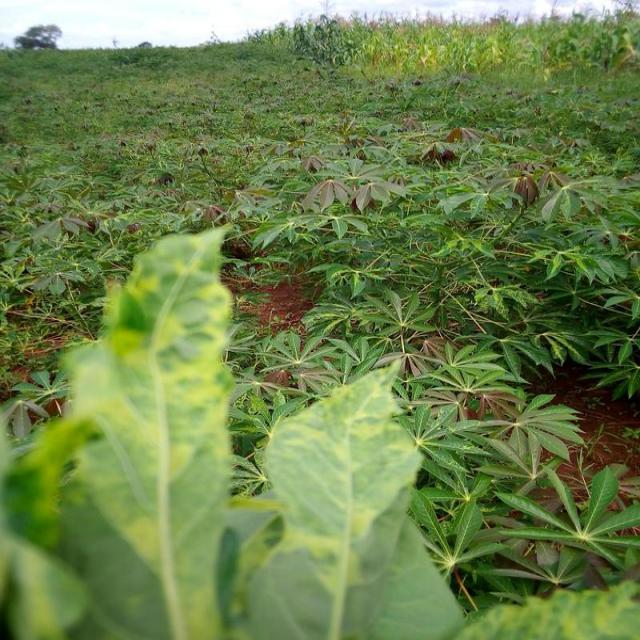cassava leaf: (61, 223, 238, 637), (229, 356, 466, 638)
